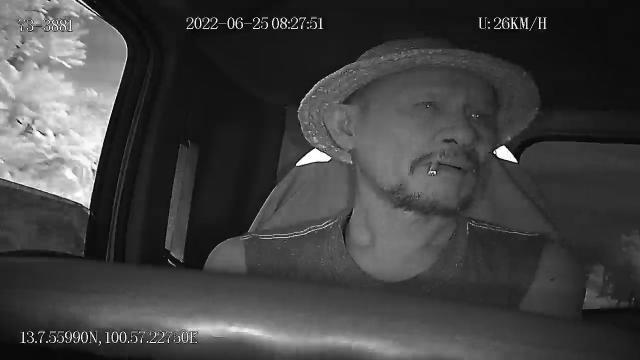SafeDriving: (410, 89, 445, 117), (461, 104, 492, 125)
Smoking: (426, 160, 442, 180)
